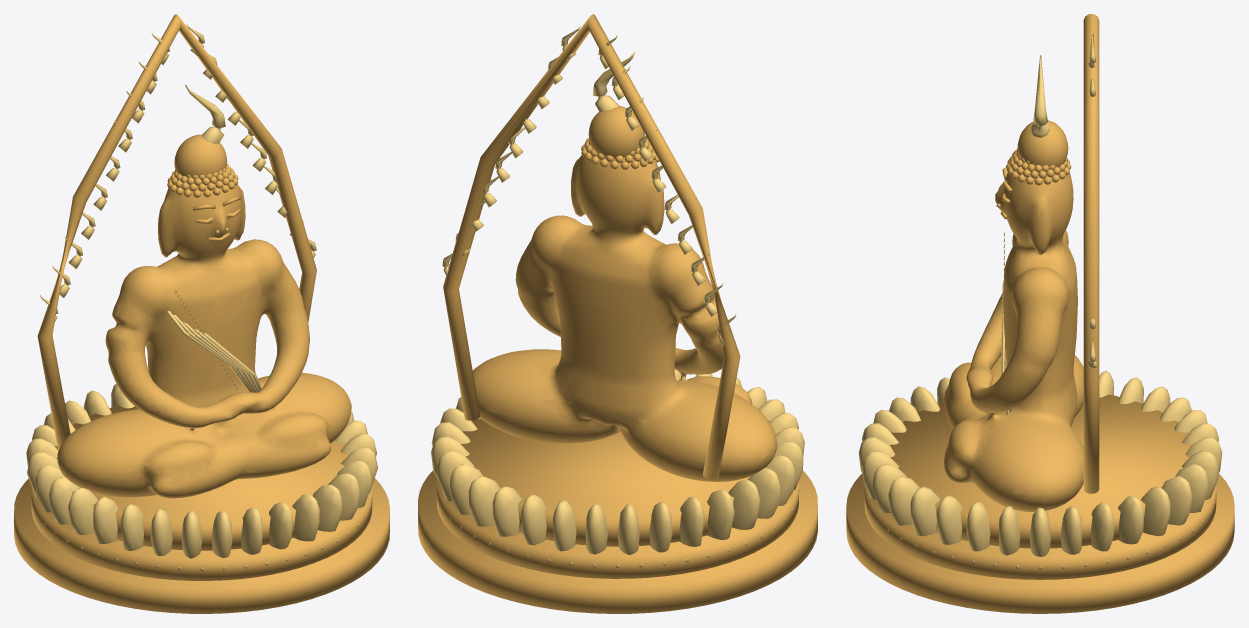
File: buddha-meditation-refined.glb
The picture shows the model from 3 angles, left to right: view 1: azimuth 30°, elevation 25°; view 2: azimuth 150°, elevation 25°; view 3: azimuth 270°, elevation 25°; orthographic projection. The views are drawn at different scales.
Visible parts, largest first — view 1: buddha-meditation / Antique warm gold, buddha-meditation / Raised gold ornament; view 2: buddha-meditation / Antique warm gold, buddha-meditation / Raised gold ornament; view 3: buddha-meditation / Antique warm gold, buddha-meditation / Raised gold ornament.
Part boxes in pixels (x1=…): buddha-meditation / Antique warm gold: x1=14, y1=14, x2=389, y2=613; buddha-meditation / Raised gold ornament: x1=26, y1=24, x2=377, y2=558; buddha-meditation / Antique warm gold: x1=418, y1=14, x2=817, y2=613; buddha-meditation / Raised gold ornament: x1=431, y1=26, x2=804, y2=554; buddha-meditation / Antique warm gold: x1=846, y1=14, x2=1234, y2=613; buddha-meditation / Raised gold ornament: x1=858, y1=32, x2=1222, y2=556.
Size of the model in its own units: 3.2 by 4.71 by 3.2.
